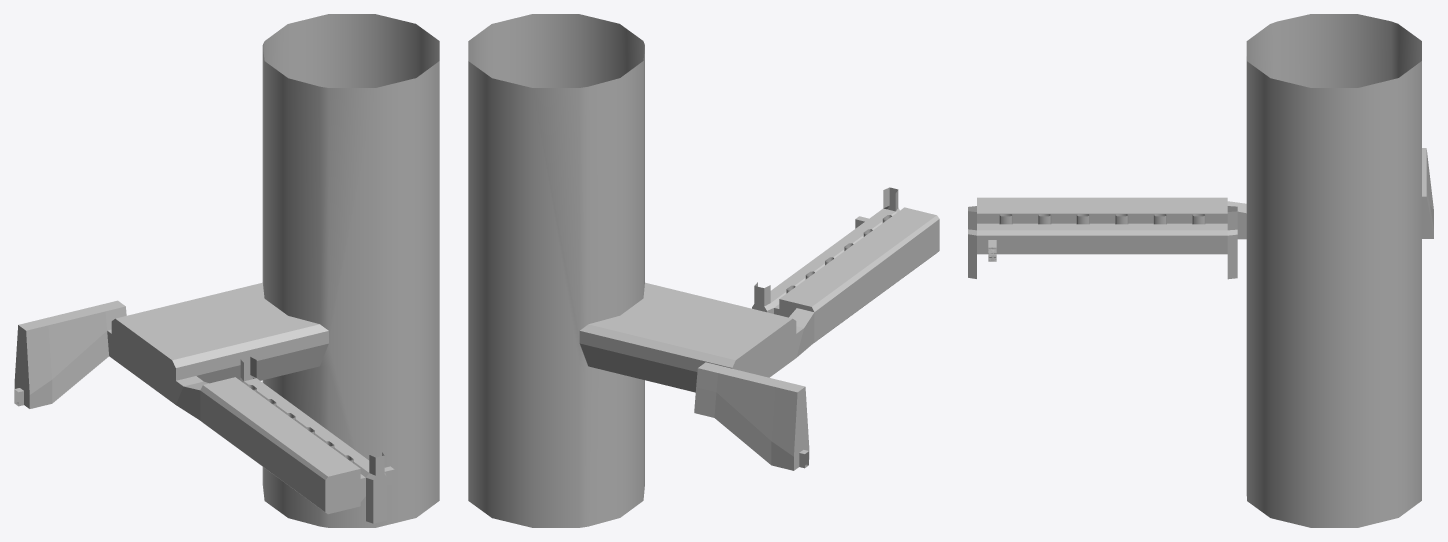
File: chamber-c.FBX
3 renders of one model, left to right at view 1: azimuth 30°, elevation 25°; view 2: azimuth 150°, elevation 25°; view 3: azimuth 270°, elevation 25°, orthographic.
Visible parts, largest first — view 1: ChamberC; view 2: ChamberC; view 3: ChamberC, ColumnsC.
Boxes of the visible parts, x1,y1,x2,y2 form: ChamberC: [14, 14, 439, 527]; ChamberC: [468, 14, 939, 527]; ChamberC: [968, 14, 1433, 527]; ColumnsC: [999, 214, 1205, 224].
Bounding box in the file's own units: 111 × 126 × 121.
